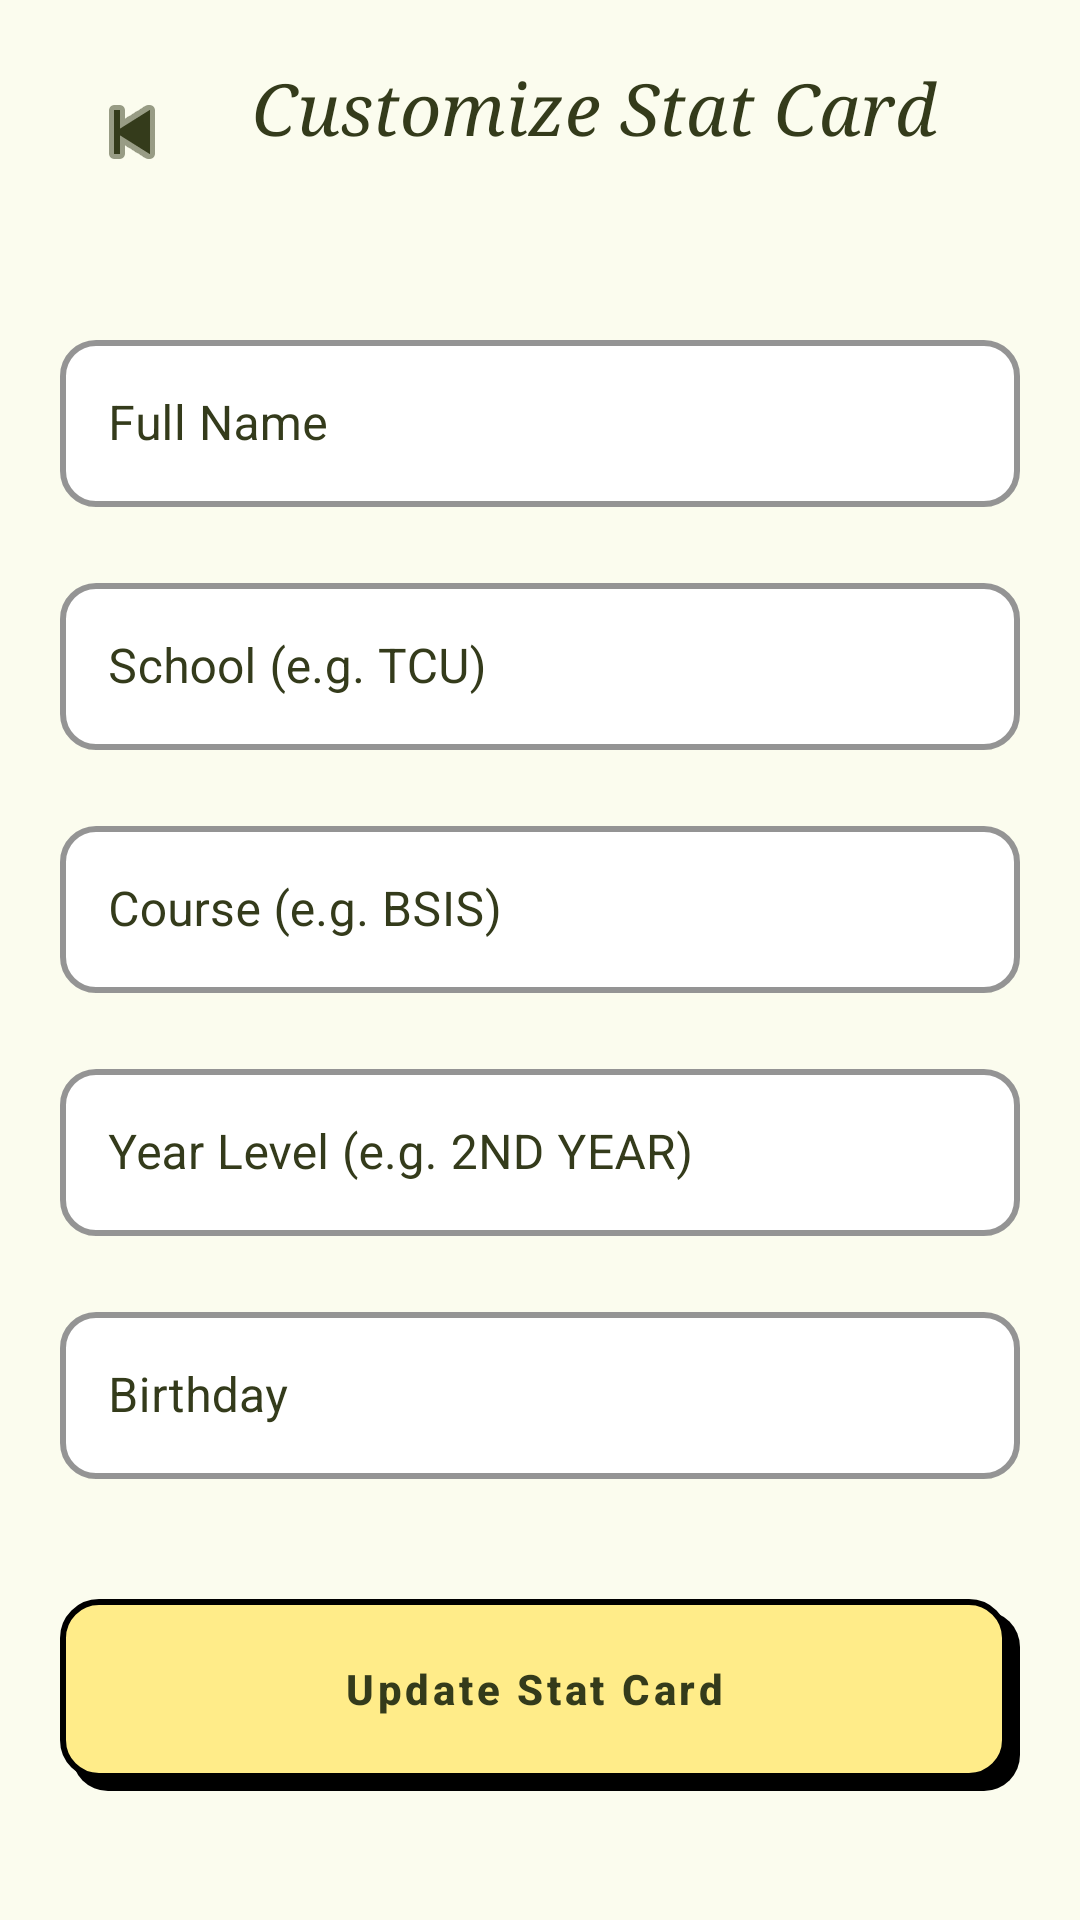

Icon click points for this 1080px x 1920px phone screenshot, format point (x, y):
Back: point (132, 132)
